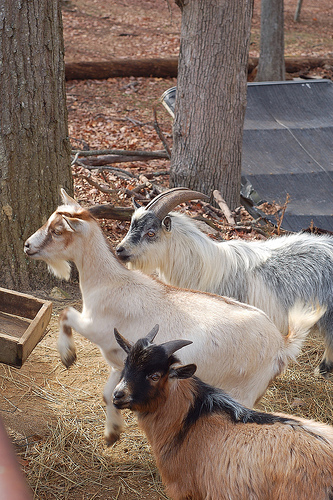goat: (22, 186, 284, 448), (114, 188, 333, 375), (111, 324, 333, 499)
